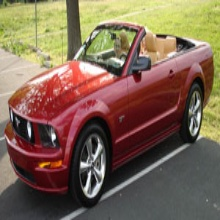no damage: (4, 21, 215, 209)
